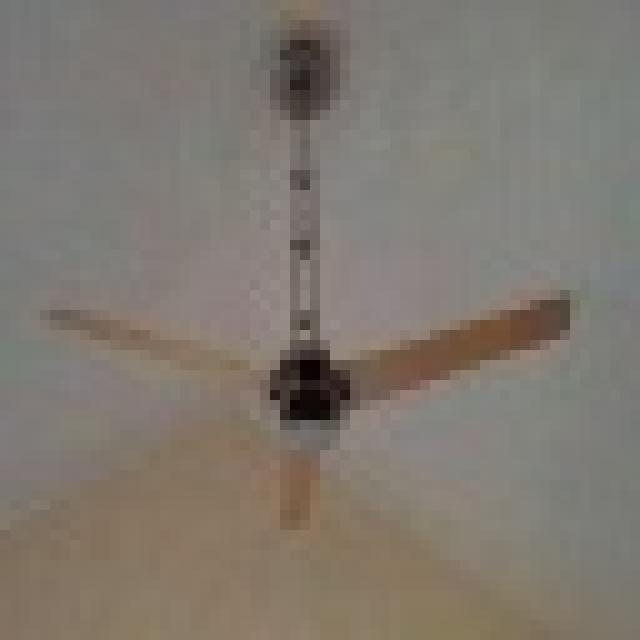Bulb: (0, 277, 640, 632)
